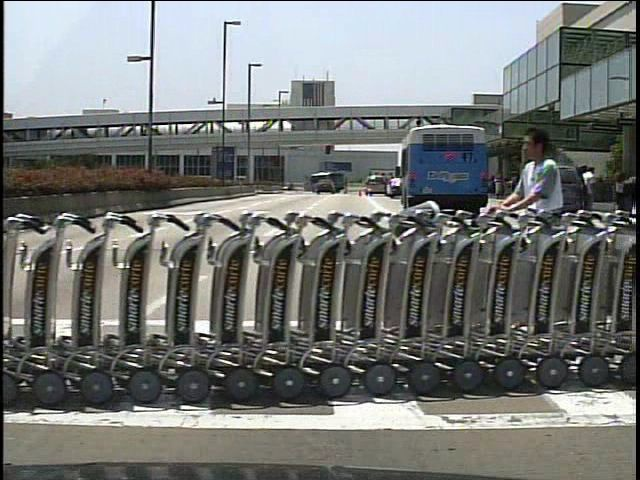person: (491, 126, 577, 362), (572, 163, 590, 224), (580, 165, 601, 214), (342, 176, 349, 196)
